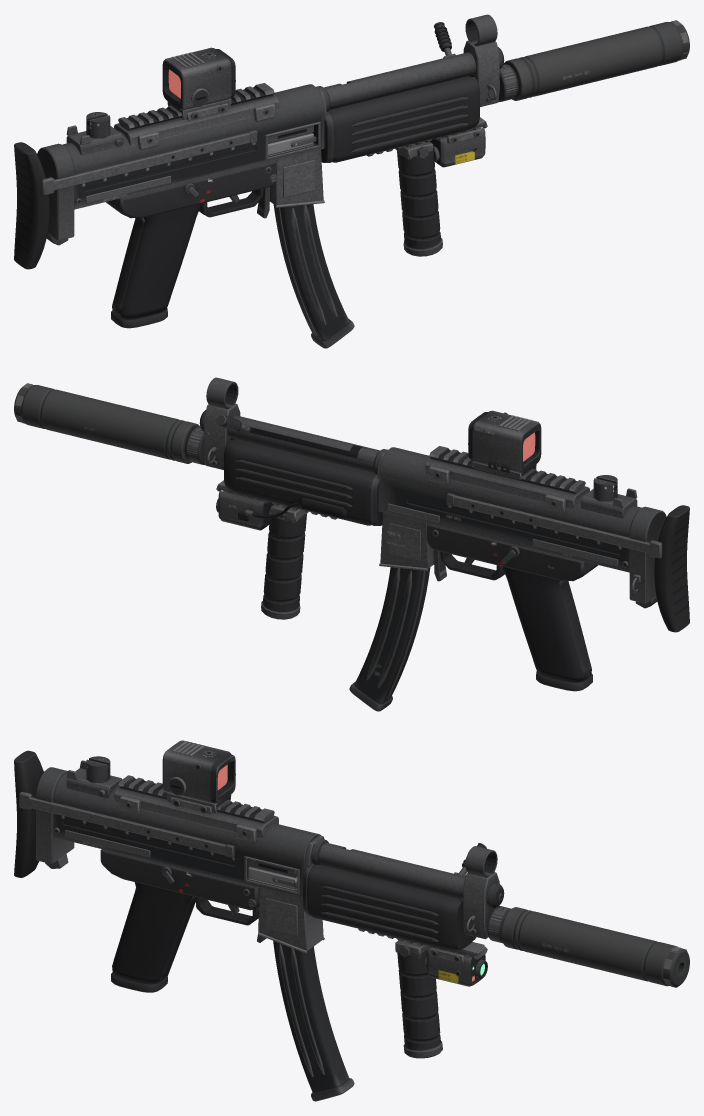
3 views of the same model, one above another, from view 1: azimuth 30°, elevation 25°; view 2: azimuth 150°, elevation 25°; view 3: azimuth 330°, elevation 25° (orthographic).
Parts seen in each view (by area): view 1: body, stock, magazine, slide; view 2: body, stock, magazine; view 3: body, magazine, stock, slide.
Boxes of the visible parts, left/top/right/bottom form: body: left=37, top=14, right=689, bottom=328; stock: left=14, top=130, right=257, bottom=269; magazine: left=273, top=204, right=354, bottom=348; slide: left=268, top=125, right=316, bottom=155; body: left=14, top=377, right=666, bottom=691; stock: left=446, top=493, right=689, bottom=632; magazine: left=349, top=567, right=430, bottom=711; body: left=36, top=740, right=689, bottom=1058; magazine: left=273, top=941, right=354, bottom=1101; stock: left=14, top=750, right=234, bottom=877; slide: left=248, top=859, right=297, bottom=889.
Size of the model in its own units: 0.6843 by 0.3132 by 0.0696.
Materials: 1 (1 with a texture image).
